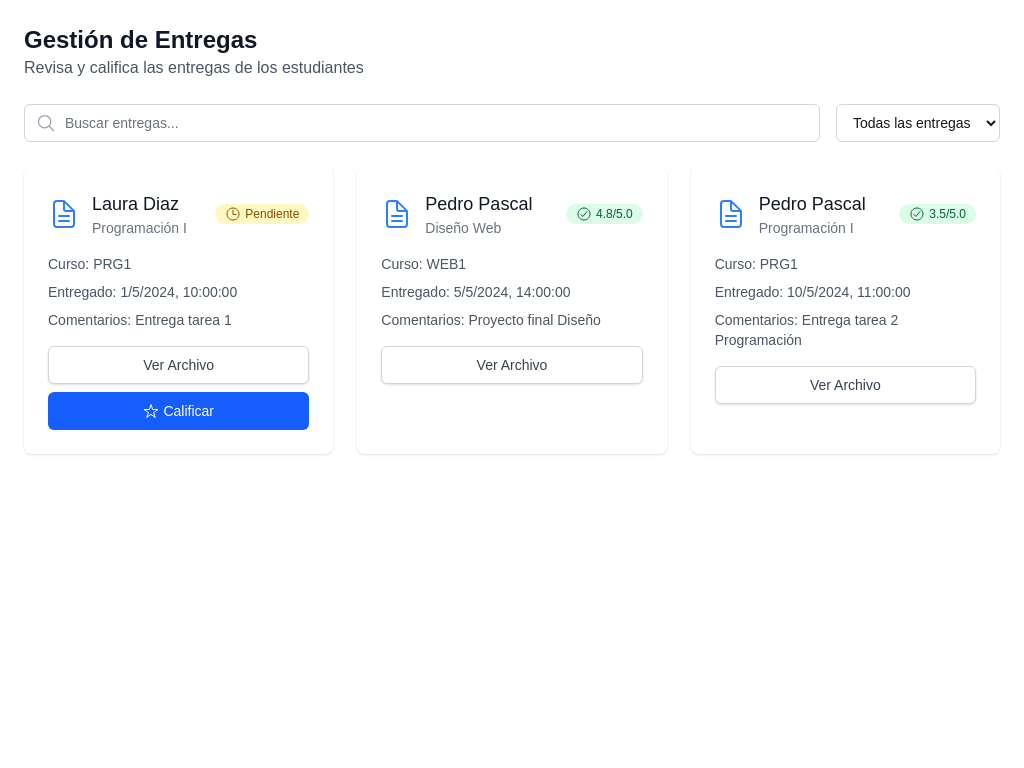
Test: SubmissionsPage › Modal de Calificación › debería abrir, rellenar, cancelar y cerrar el modal de calificación
The image size is (1024, 768).
Expected: the text "Laura Diaz" is shown, [92,194,179,214]
Click the button "Calificar" at (179, 411), box [48,392,309,430]
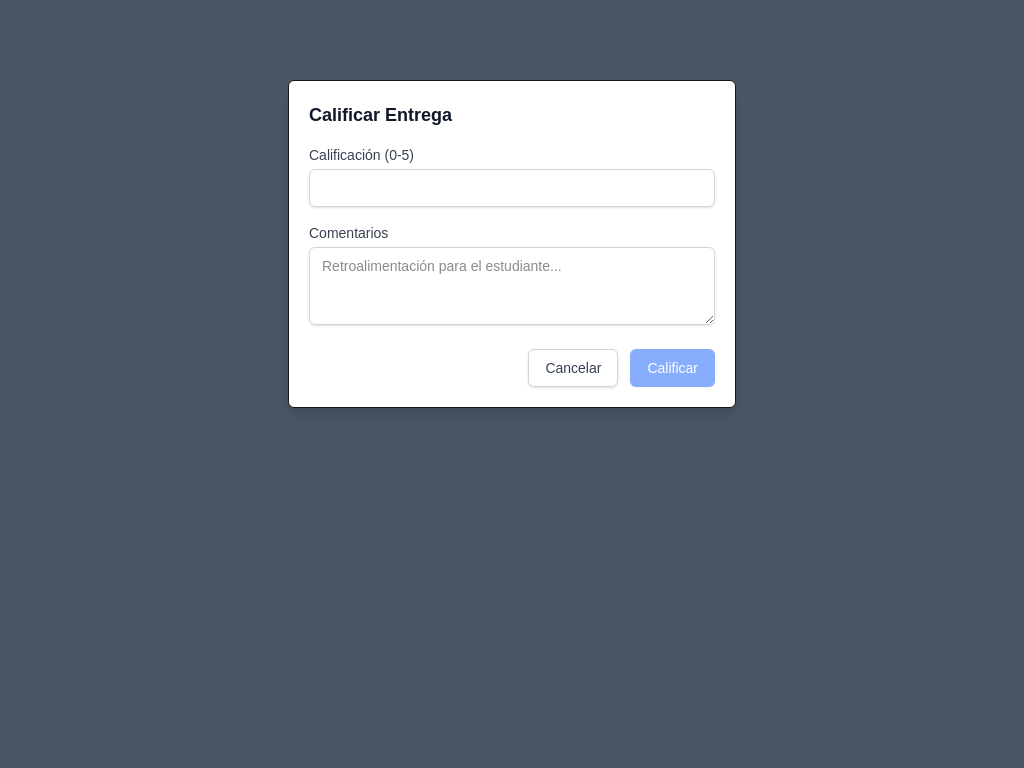
Result: the element with test id "grading-modal" is shown
Type "4.2" into the number field labelled "Calificación (0-5)" at (512, 188), box [309,169,715,207]
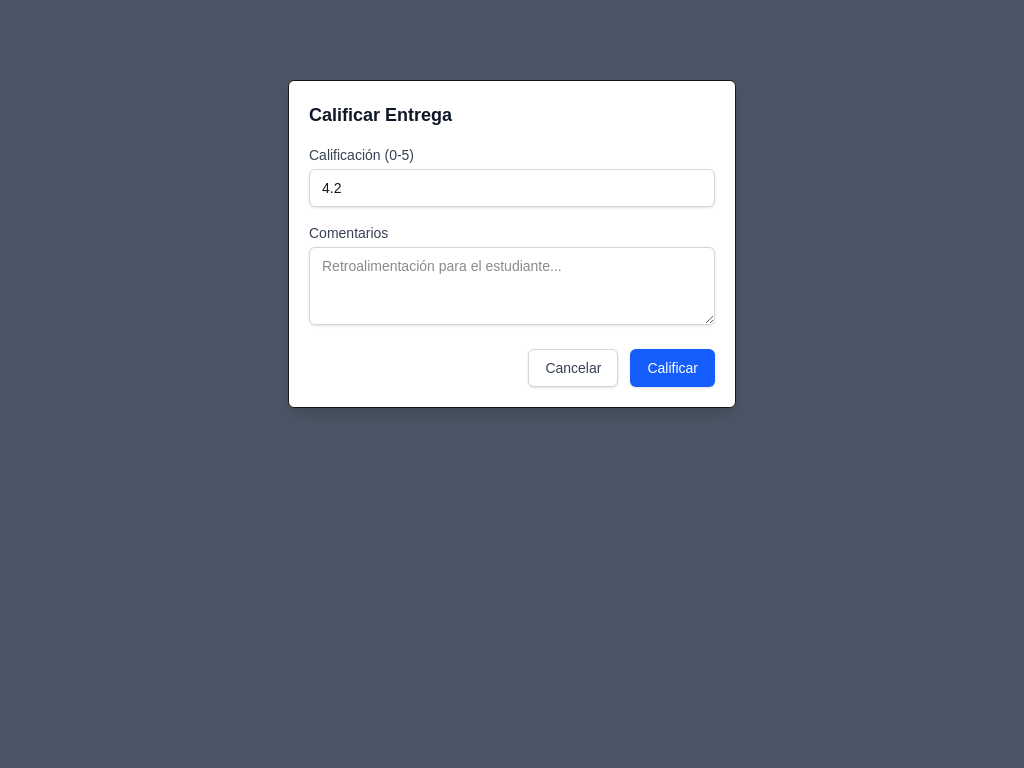
Type "Buen esfuerzo." into the text box with placeholder "Retroalimentación para el estudiante..." at (512, 286), box [309,247,715,325]
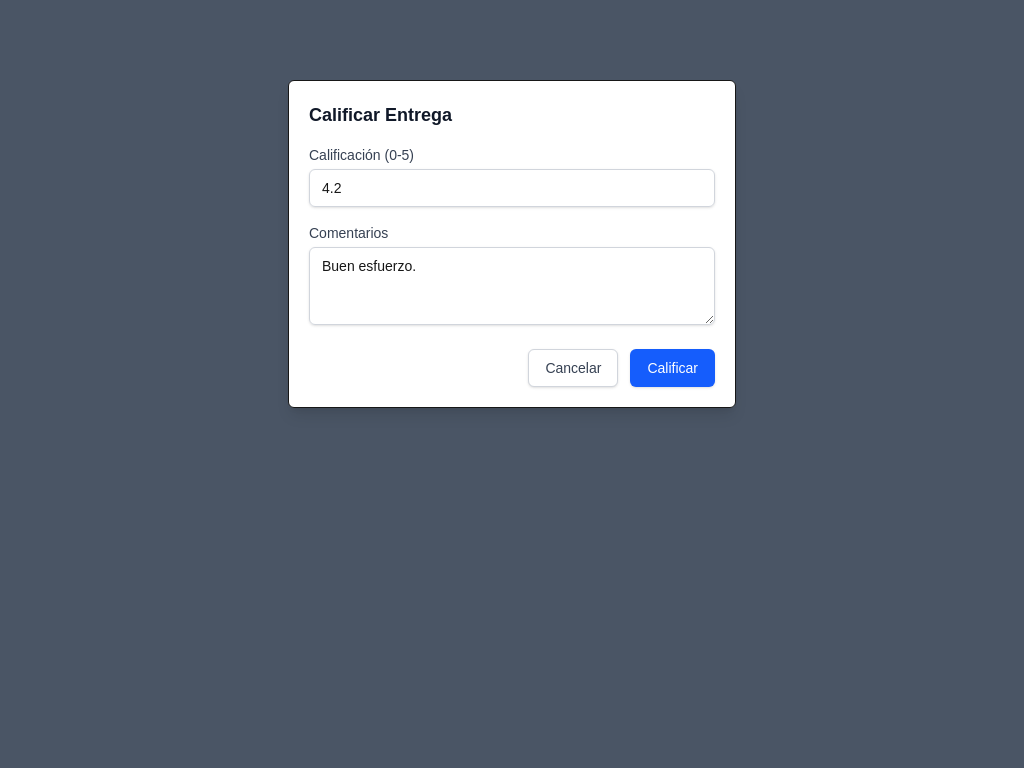
Click the button "Cancelar" at (573, 368), box [528,349,618,387]
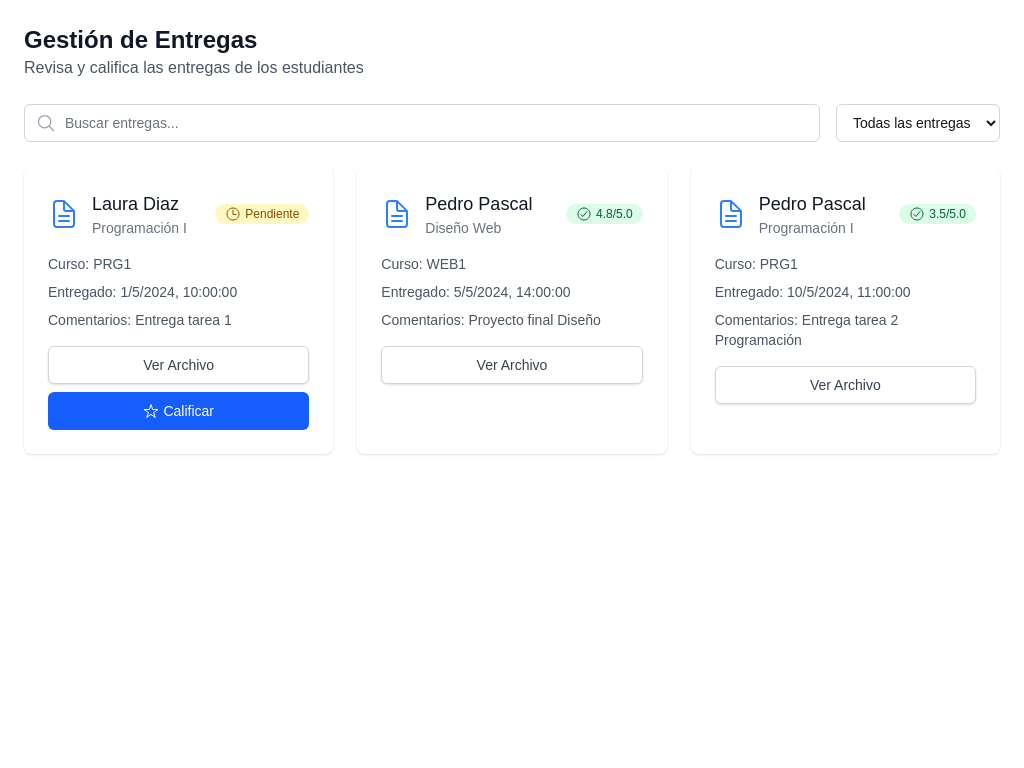
Result: the element with test id "grading-modal" is gone
